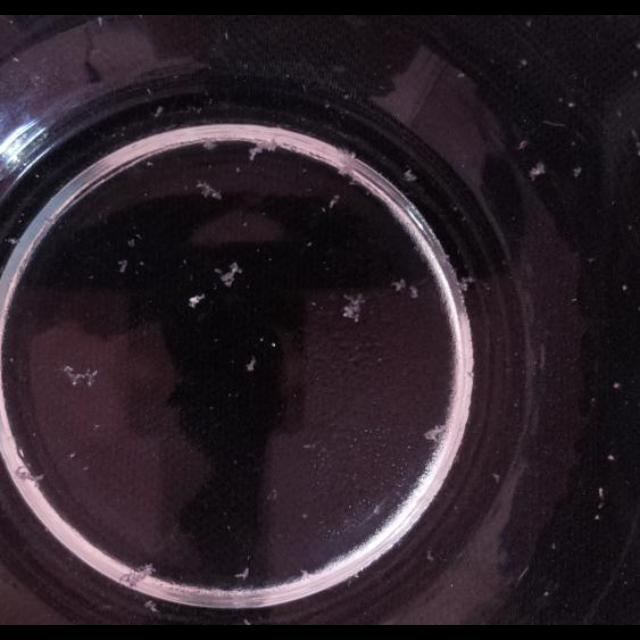Fibre: (62, 364, 98, 388), (217, 260, 243, 292), (119, 562, 151, 588), (341, 293, 367, 323), (334, 154, 360, 176), (195, 180, 222, 200), (422, 424, 446, 444), (528, 162, 546, 180), (458, 274, 476, 292), (248, 145, 266, 161), (189, 294, 205, 308), (401, 168, 417, 182), (233, 566, 249, 580), (145, 600, 161, 614), (392, 279, 406, 293), (329, 194, 341, 210), (342, 305, 354, 319), (266, 488, 278, 502), (372, 502, 384, 516), (246, 356, 256, 372), (201, 140, 217, 150), (116, 260, 128, 272), (229, 262, 241, 274), (408, 286, 418, 300), (6, 237, 20, 246), (153, 106, 163, 118), (62, 365, 74, 375), (426, 549, 436, 561), (518, 140, 528, 150), (300, 570, 310, 580), (574, 166, 582, 178), (303, 442, 315, 450), (492, 474, 501, 484), (128, 238, 136, 248), (520, 58, 528, 68), (598, 487, 604, 499), (613, 382, 621, 390), (567, 100, 575, 108), (214, 268, 222, 276), (68, 452, 76, 460), (607, 454, 615, 461), (622, 284, 628, 292)
